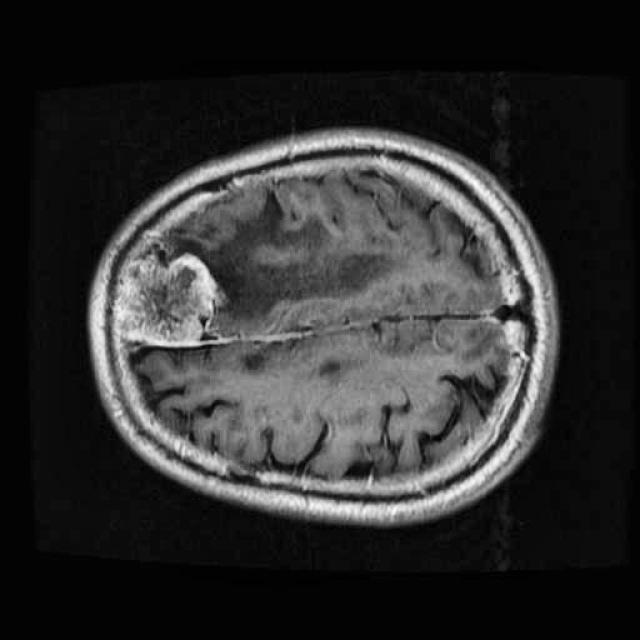Tumor: (95, 240, 230, 361)
